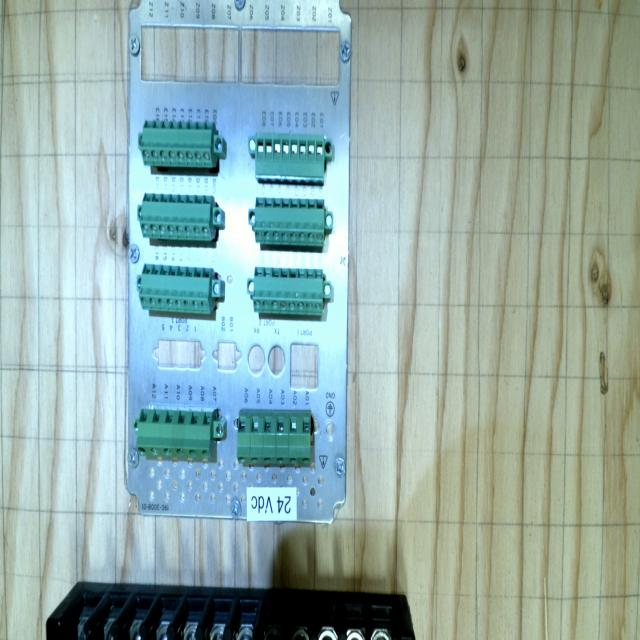Terminal_1: (136, 408, 214, 460), (237, 411, 311, 464)
Terminal_2: (138, 263, 213, 314), (139, 192, 214, 241), (252, 266, 325, 315), (140, 120, 214, 168), (254, 197, 326, 246)
